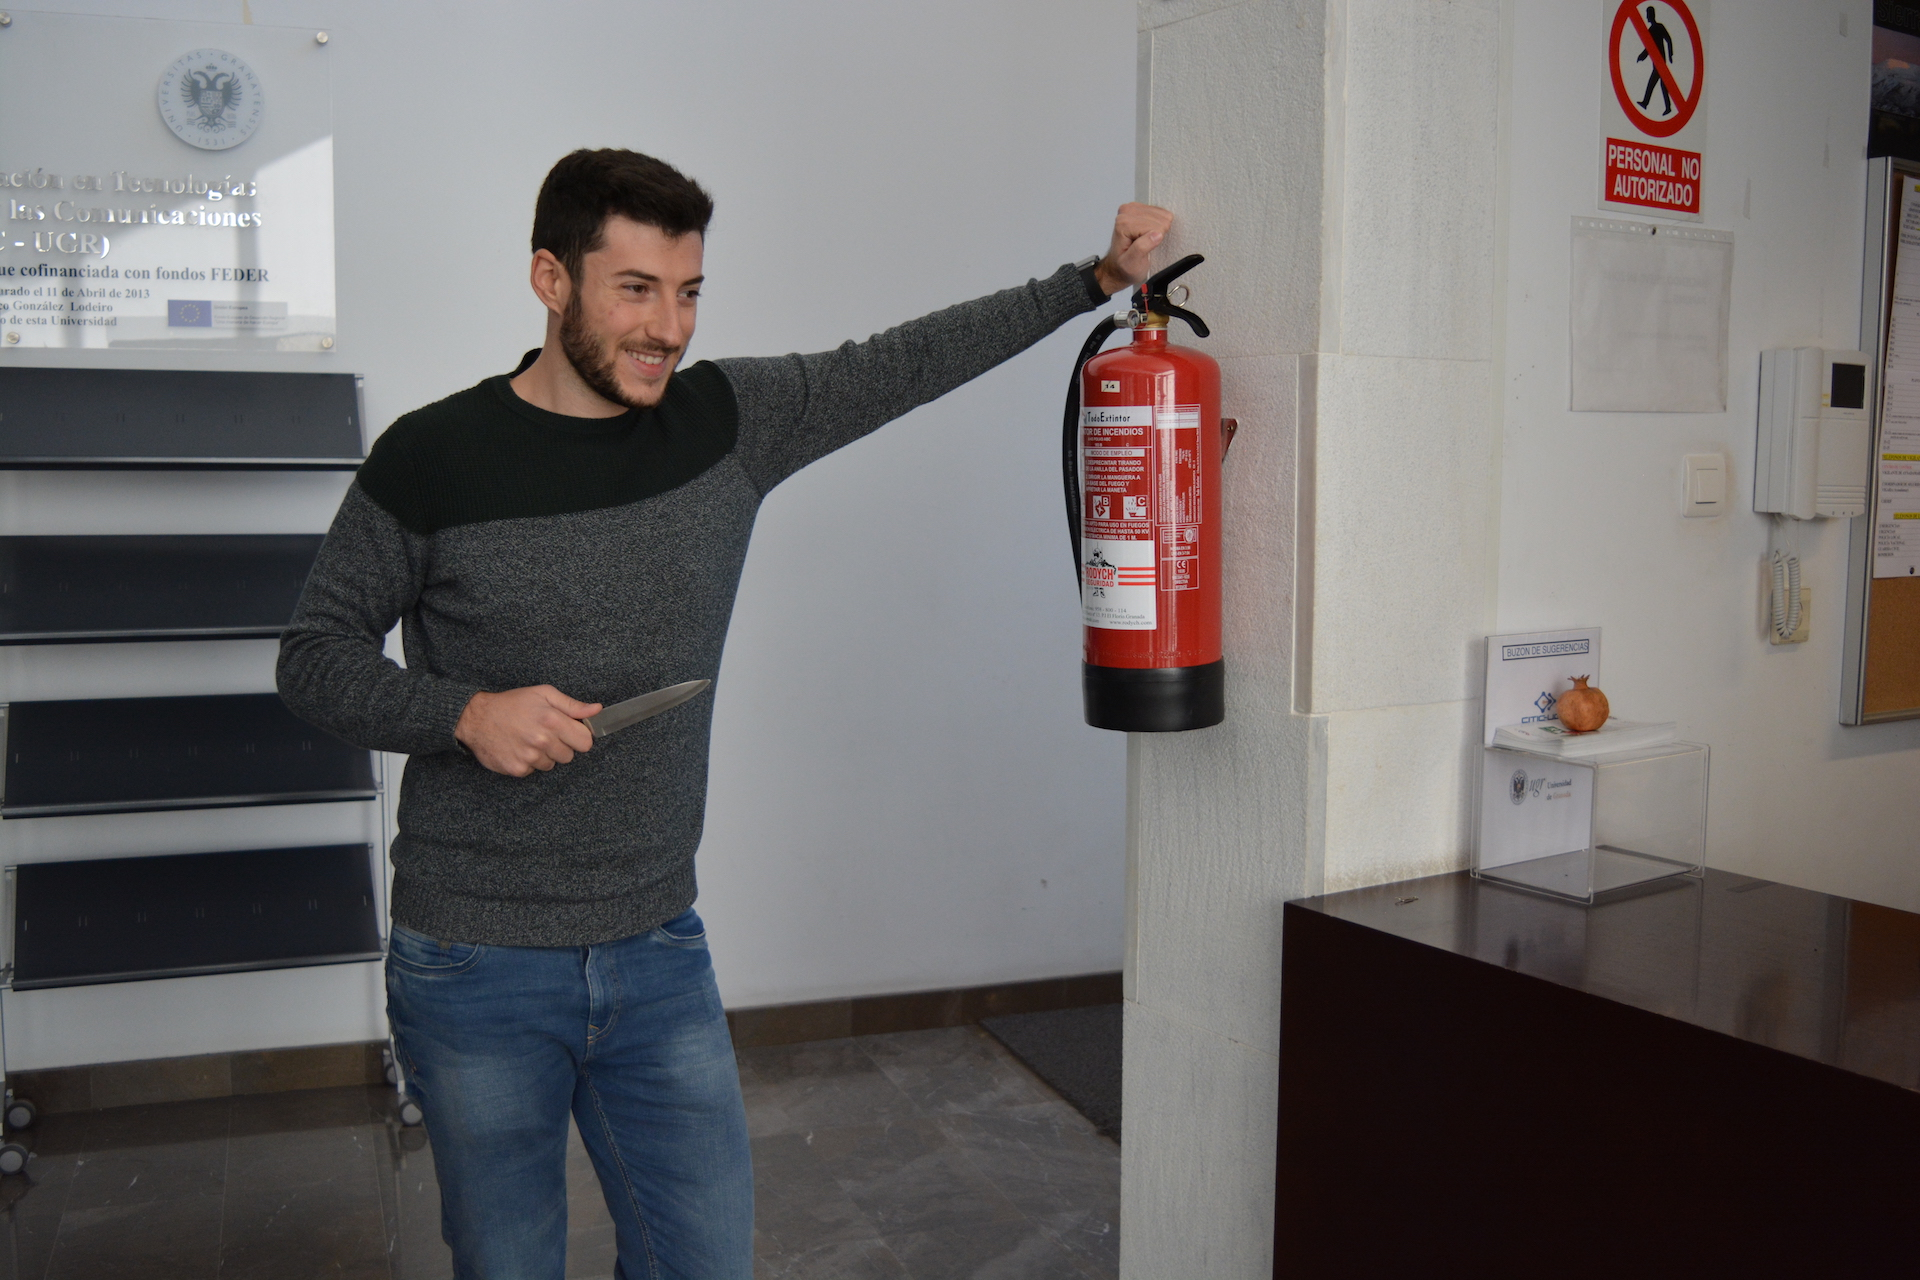knife: (557, 670, 719, 751)
